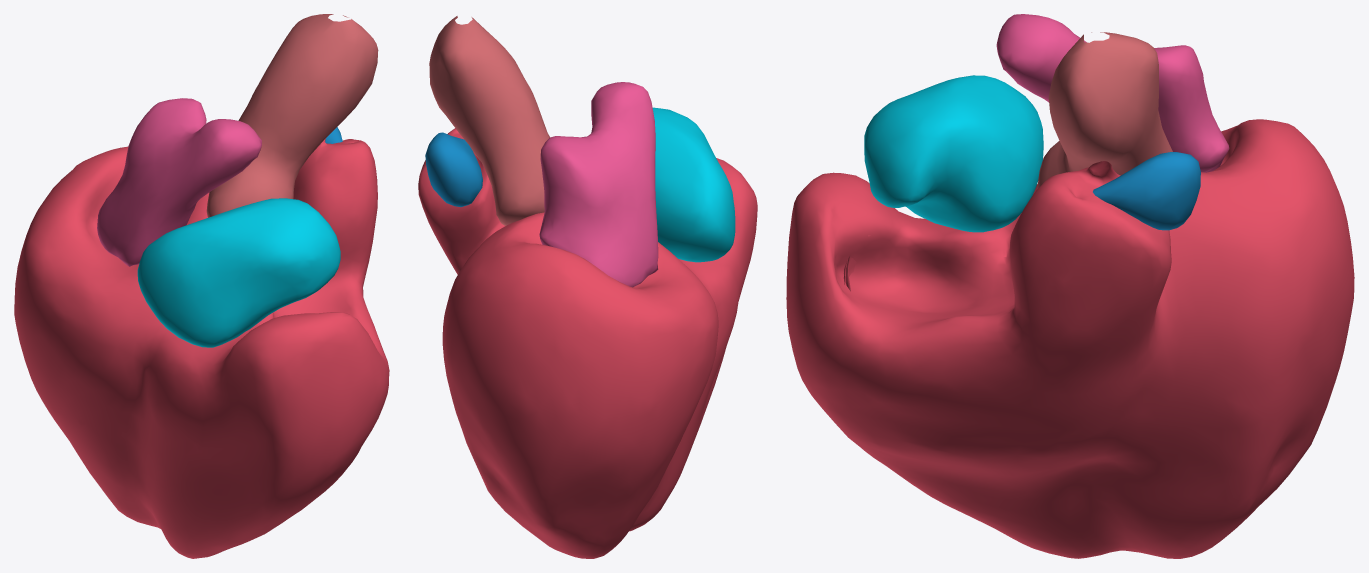
Rendered from frame_72.glb.
3 renders of one model, left to right at view 1: azimuth 30°, elevation 25°; view 2: azimuth 150°, elevation 25°; view 3: azimuth 270°, elevation 25°, orthographic. The views are drawn at different scales.
Parts seen in each view (by area): view 1: Renderer Node; view 2: Renderer Node; view 3: Renderer Node.
Boxes of the visible parts, <box> form: Renderer Node: <box>14,14,389,558</box>; Renderer Node: <box>418,16,757,558</box>; Renderer Node: <box>786,14,1354,558</box>.
Bounding box in the file's own units: 105 × 162 × 135.
